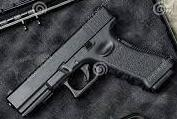gun: (1, 1, 177, 119)
